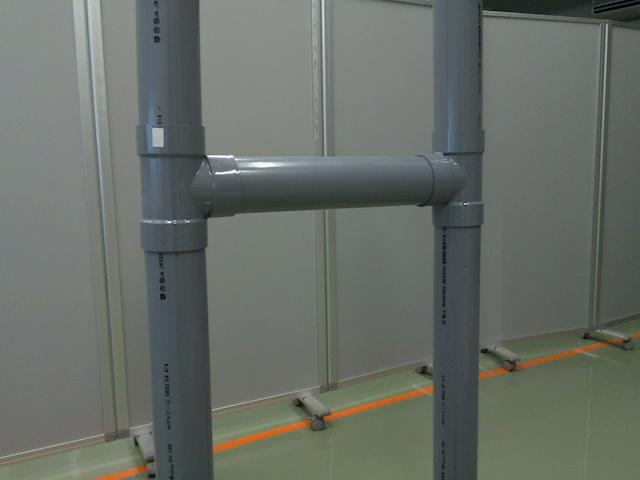junction: (131, 126, 242, 252), (410, 134, 486, 230)
